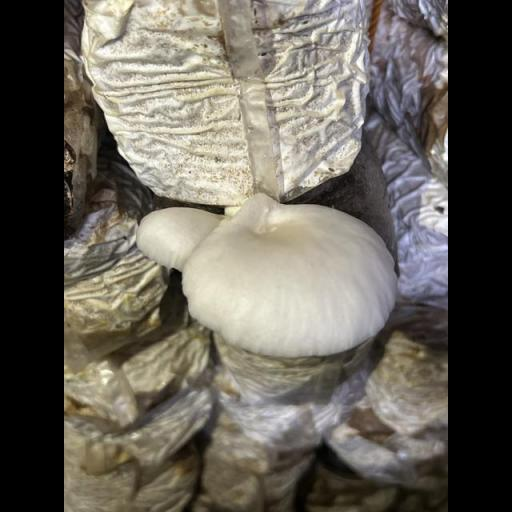White Oyster Mushroom: (138, 196, 399, 356)
